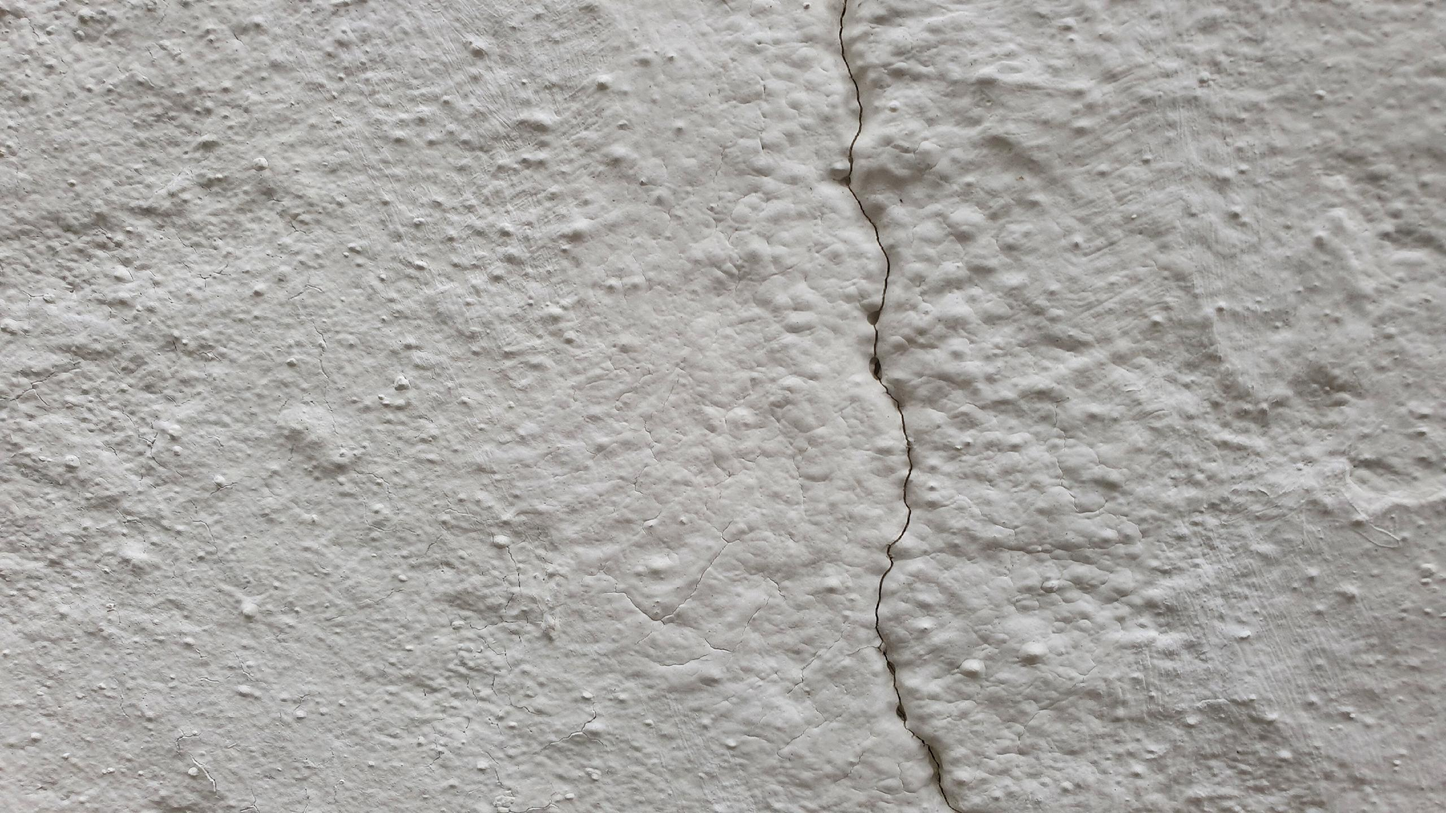crack: (839, 2, 961, 812), (839, 1, 955, 811)
